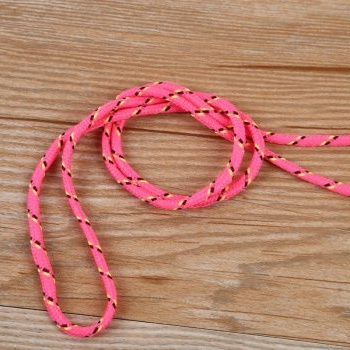9/可回收垃圾/绳子: (26, 81, 350, 338)
